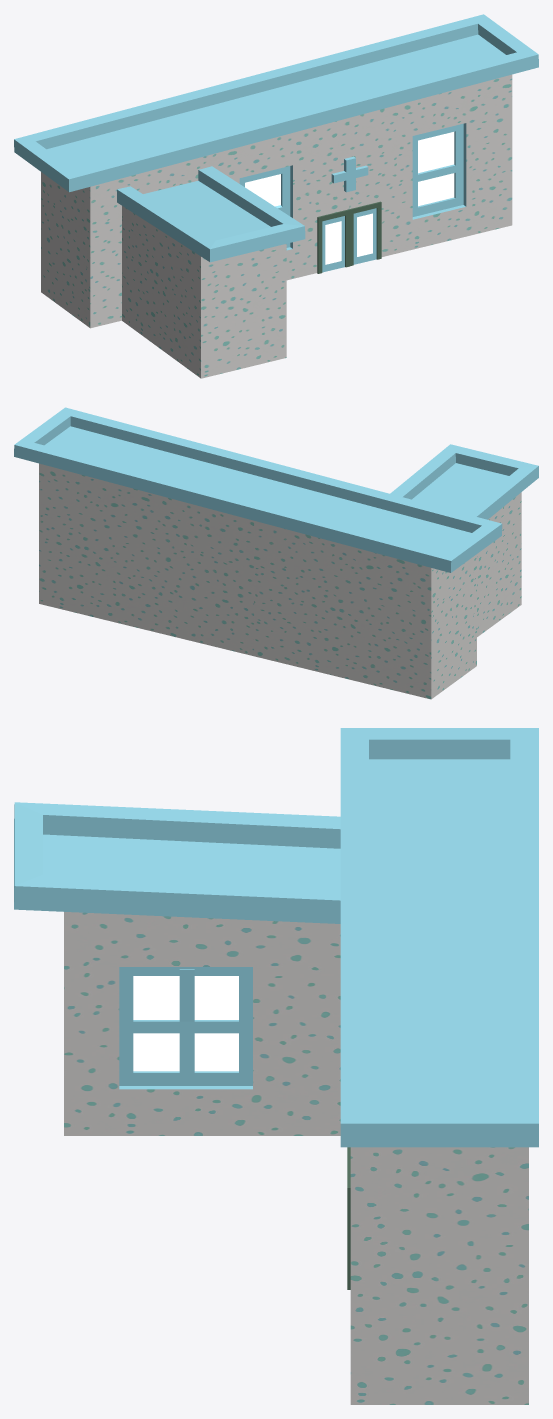
The model's file is Hospital.fbx.
3 renders of one model, top to bottom at view 1: azimuth 30°, elevation 25°; view 2: azimuth 150°, elevation 25°; view 3: azimuth 270°, elevation 25°, orthographic. The views are drawn at different scales.
Parts seen in each view (by area): view 1: Hospital; view 2: Hospital; view 3: Hospital.
Part boxes in pixels (left/top/right/bottom): Hospital: left=14, top=14, right=538, bottom=378; Hospital: left=14, top=407, right=538, bottom=699; Hospital: left=14, top=728, right=538, bottom=1404.
Bounding box in the file's own units: 4070 × 1389 × 2179.
5 materials, 1 textured.
